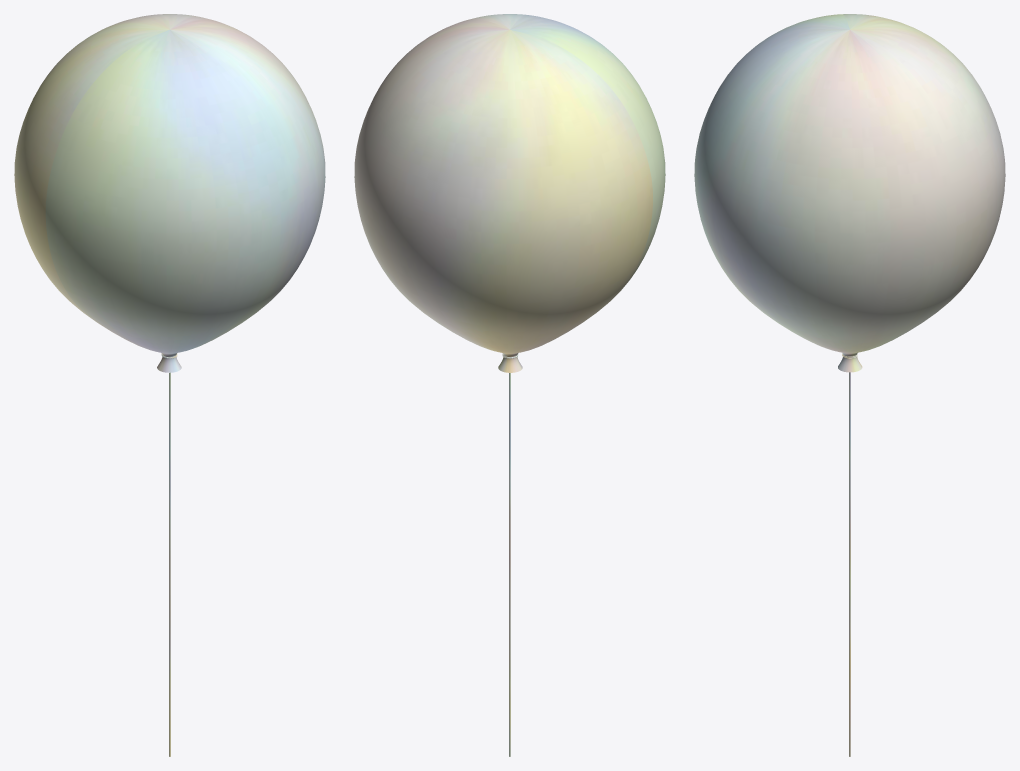
File: Balloon.obj
The picture shows the model from 3 angles, left to right: view 1: azimuth 30°, elevation 25°; view 2: azimuth 150°, elevation 25°; view 3: azimuth 270°, elevation 25°; orthographic projection.
Visible parts, largest first — view 1: Balloon_Sphere, BalloonStrings_NurbsPath; view 2: Balloon_Sphere, BalloonStrings_NurbsPath; view 3: Balloon_Sphere, BalloonStrings_NurbsPath.
Boxes of the visible parts, left/top/right/bottom form: Balloon_Sphere: left=14, top=14, right=325, bottom=372; BalloonStrings_NurbsPath: left=161, top=354, right=177, bottom=756; Balloon_Sphere: left=354, top=14, right=665, bottom=372; BalloonStrings_NurbsPath: left=502, top=354, right=518, bottom=756; Balloon_Sphere: left=694, top=14, right=1005, bottom=372; BalloonStrings_NurbsPath: left=842, top=353, right=857, bottom=756.
Size of the model in its own units: 2.02 by 5.19 by 2.02.
2 materials, 2 textured.
